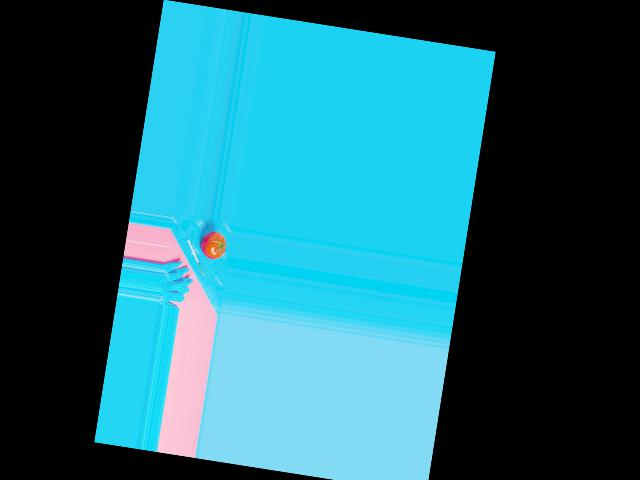tomato: (198, 230, 227, 260)
